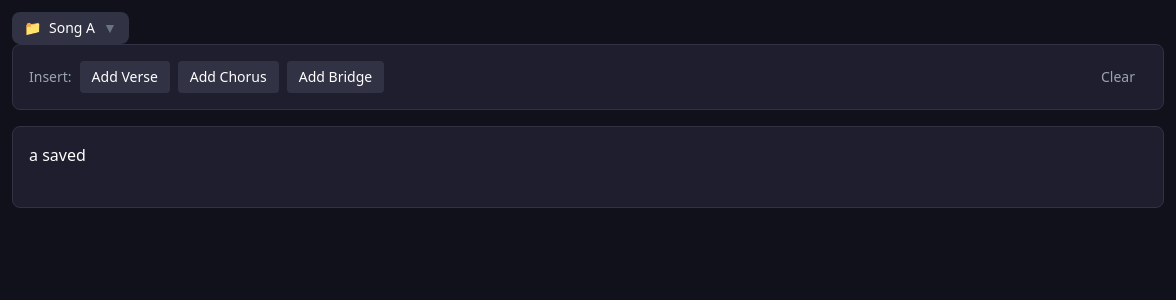
Test case: closes the dropdown without losing edits when the active project is selected
This screenshot has width=1176, height=300.
Replace the text in the text box with "Unfinished lyric": [588, 167] box top-left (12, 126), bottom-right (1164, 208)
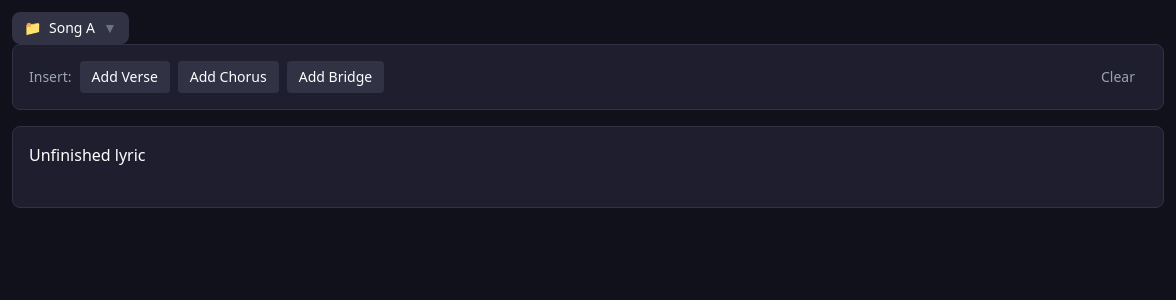
Click the button "📁 Song A ▼": [70, 28] box top-left (12, 12), bottom-right (129, 44)
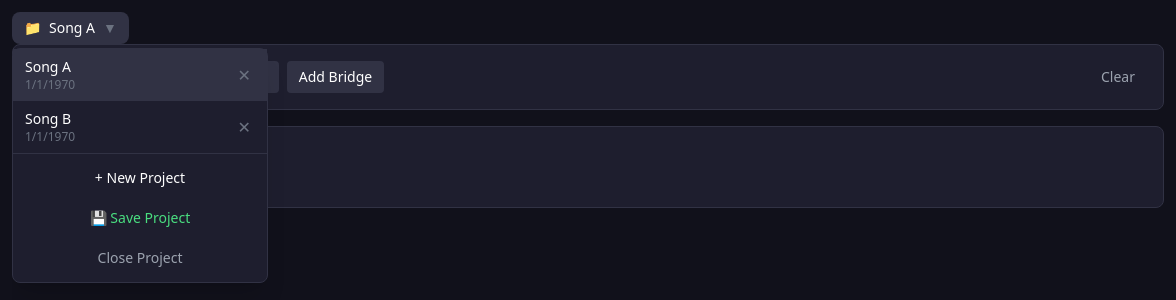
Click the text "Song A": [48, 66] box top-left (25, 57), bottom-right (71, 76)
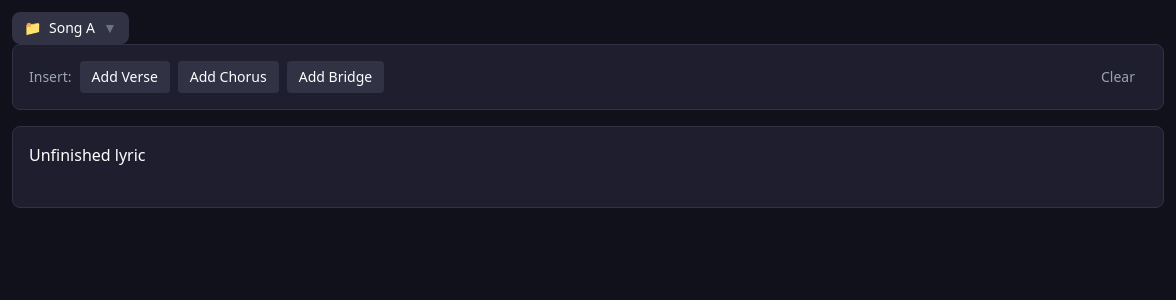
Check: the button "+ New Project" is gone
